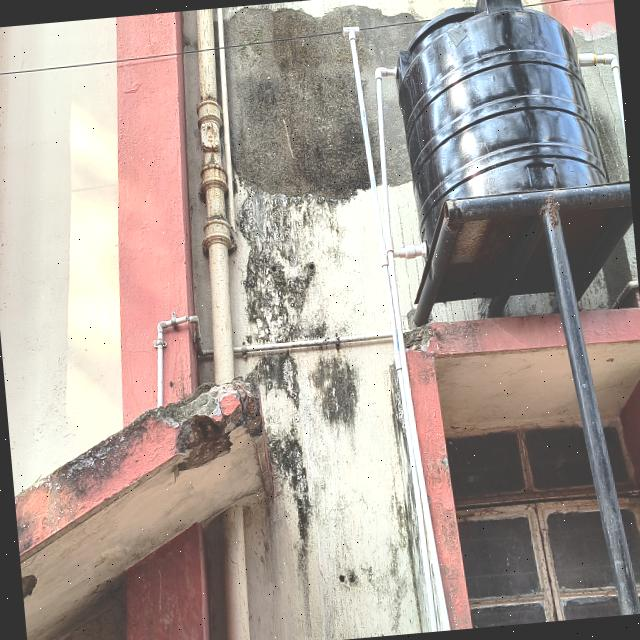Spalling: (119, 391, 251, 452)
pollution -moisture induced blackening: (230, 182, 430, 637)
